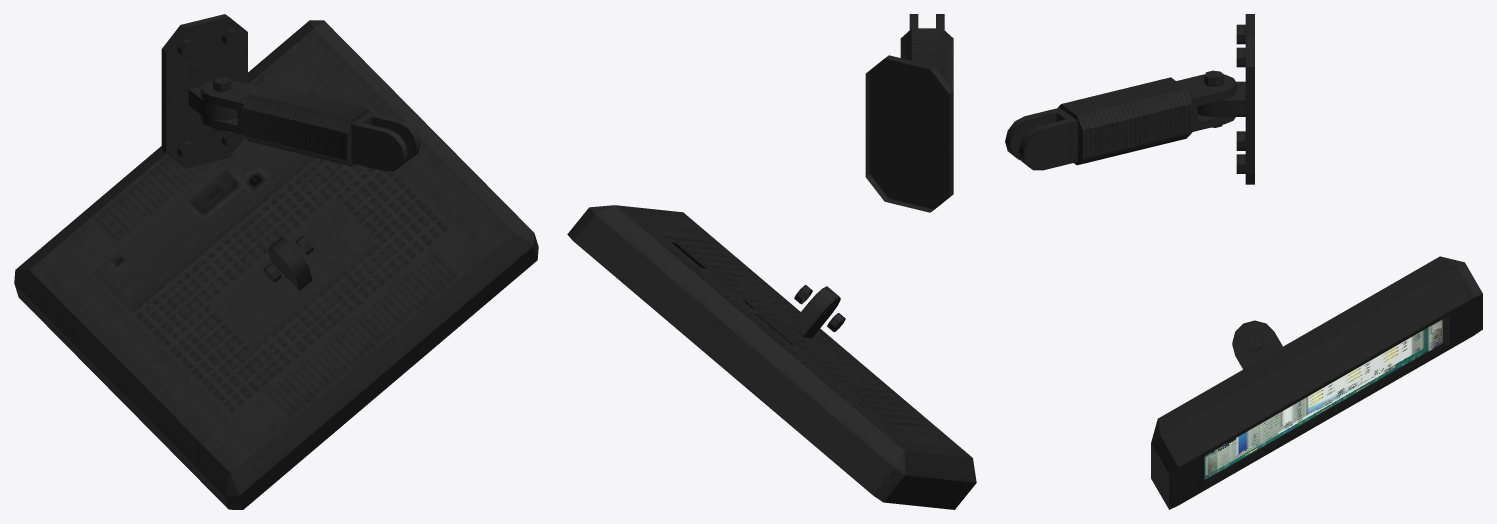
The model's file is monitoring_screen_mp_1_1.fbx.
The picture shows the model from 3 angles, left to right: view 1: azimuth 30°, elevation 25°; view 2: azimuth 150°, elevation 25°; view 3: azimuth 270°, elevation 25°; orthographic projection. The views are drawn at different scales.
Parts seen in each view (by area): view 1: monitoring_screen_mp_1_1_display, monitoring_screen_mp_1_1_arm, monitoring_screen_mp_1_1; view 2: monitoring_screen_mp_1_1_display, monitoring_screen_mp_1_1, monitoring_screen_mp_1_1_arm; view 3: monitoring_screen_mp_1_1_display, monitoring_screen_mp_1_1_arm, monitoring_screen_mp_1_1.
Boxes of the visible parts, x1,y1,x2,y2 form: monitoring_screen_mp_1_1_display: (14, 20, 538, 509); monitoring_screen_mp_1_1_arm: (200, 76, 420, 171); monitoring_screen_mp_1_1: (161, 14, 247, 168); monitoring_screen_mp_1_1_display: (567, 205, 976, 509); monitoring_screen_mp_1_1: (865, 55, 953, 212); monitoring_screen_mp_1_1_arm: (900, 14, 953, 90); monitoring_screen_mp_1_1_display: (1151, 256, 1482, 509); monitoring_screen_mp_1_1_arm: (1005, 70, 1236, 170); monitoring_screen_mp_1_1: (1198, 14, 1254, 184).
Bounding box in the file's own units: 0.527 × 0.5913 × 0.5277.
2 materials, 2 textured.
